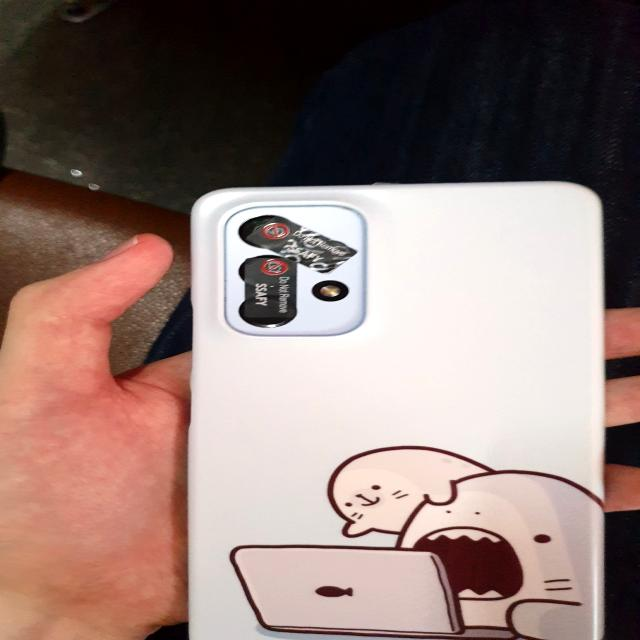phone: (183, 177, 612, 640)
removed_sticker: (243, 216, 360, 271)
sticker: (238, 256, 296, 325)
